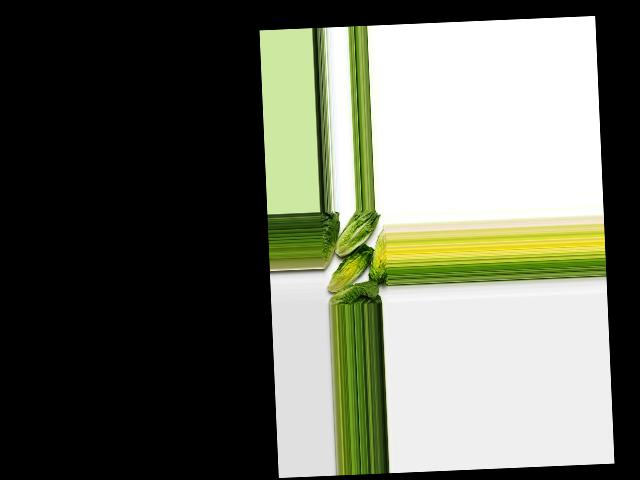lettuce: (329, 278, 382, 306)
